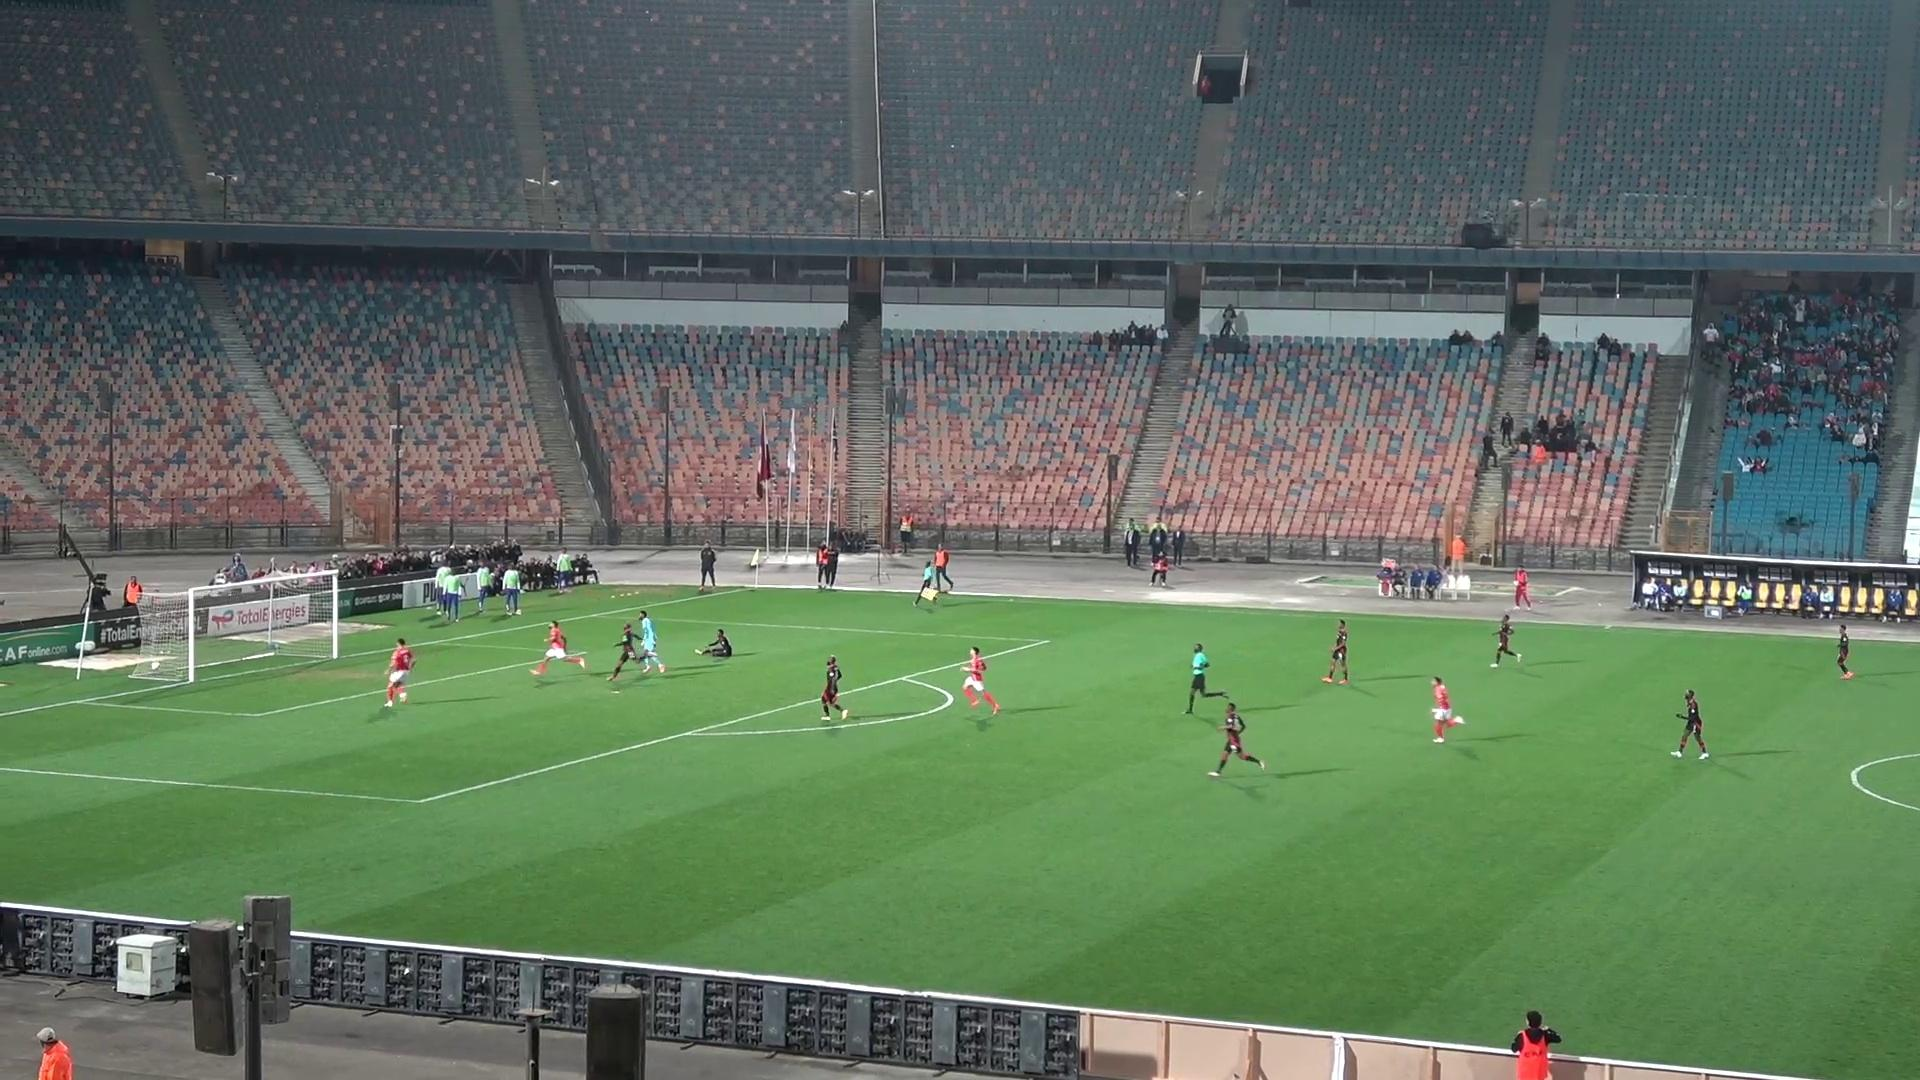Ball: (149, 661, 162, 673)
GK2: (633, 609, 667, 673)
Refree: (1184, 644, 1224, 713), (916, 550, 949, 607)
Team1: (531, 622, 585, 675), (961, 647, 1000, 713), (1431, 676, 1464, 742), (385, 637, 415, 707), (36, 1027, 73, 1079)
Team2: (1208, 702, 1265, 775), (1672, 688, 1710, 760), (607, 622, 644, 684), (819, 655, 848, 721), (1321, 618, 1350, 684), (1489, 615, 1520, 667), (1836, 625, 1855, 680), (698, 629, 733, 658)
